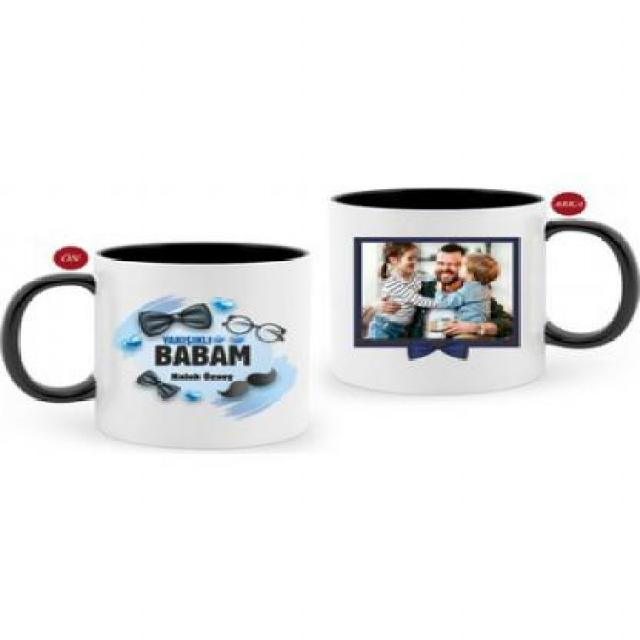taza: (5, 237, 314, 455), (327, 181, 638, 390)
